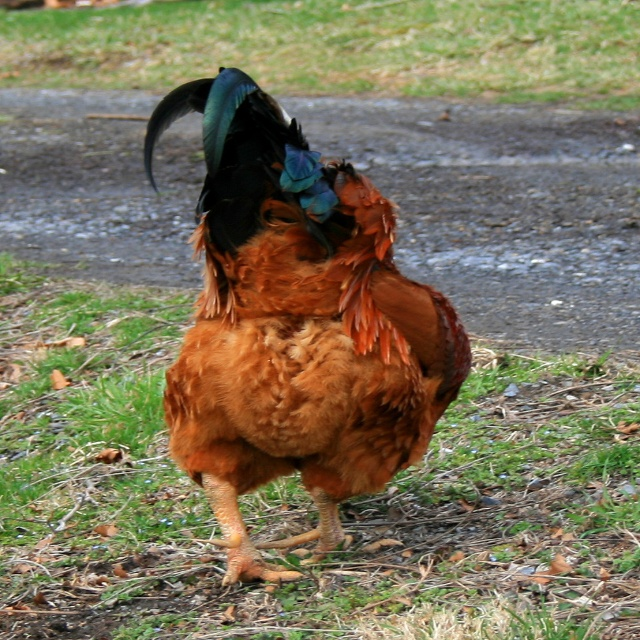Chicken: (131, 83, 457, 586)
